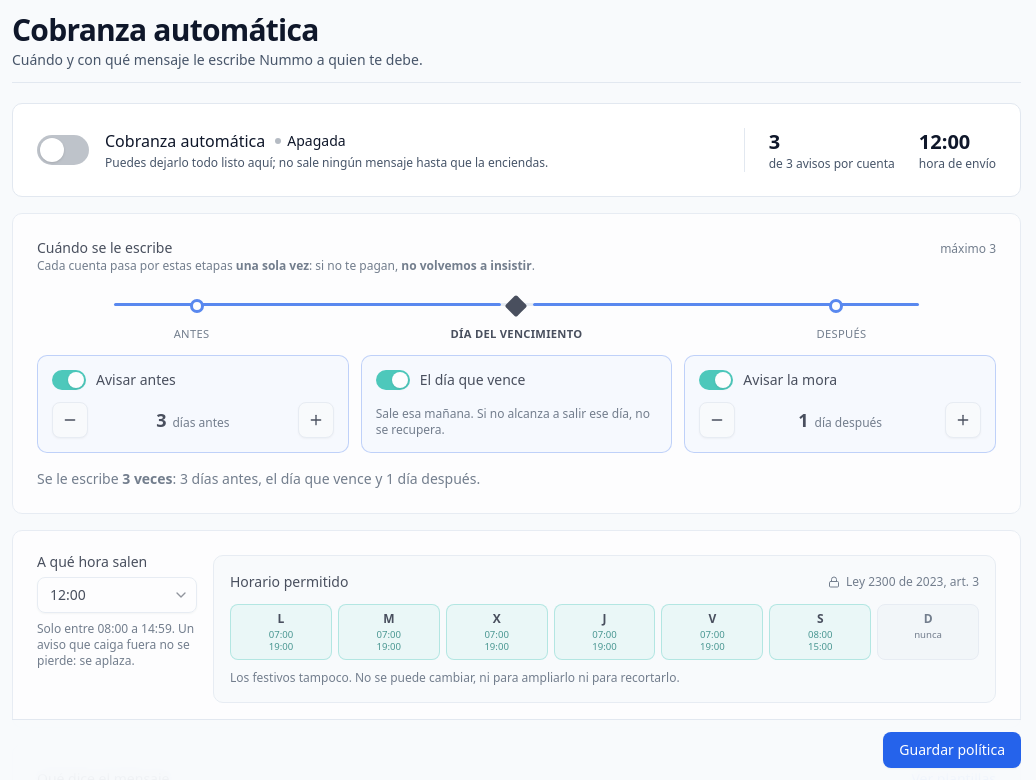
con la cobranza apagada no se pide: solo estorba al encenderla
Expected: the text "Falta decirle al deudor a dónde escribirte" is not shown
# Y aparece en cuanto se marca la casilla, sin esperar a guardar.
Click the switch labelled "Cobranza automática" at (293, 150), box x1=37 y1=130 x2=548 y2=171
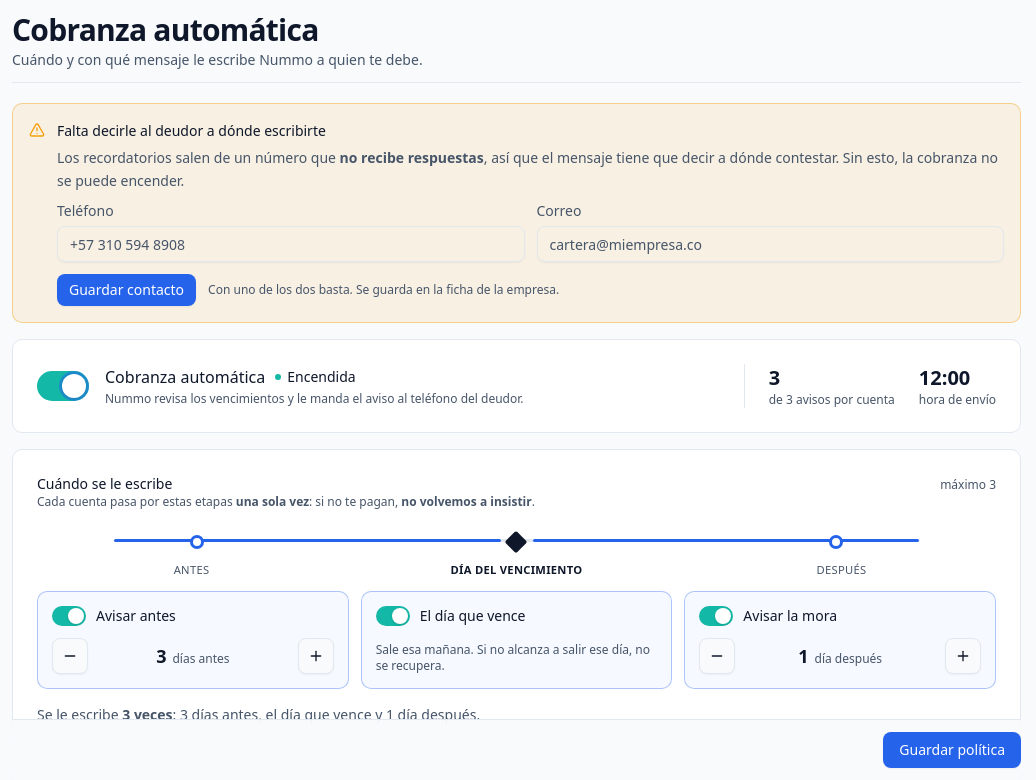
Expected: the text "Falta decirle al deudor a dónde escribirte" is shown, x1=57 y1=121 x2=326 y2=140
